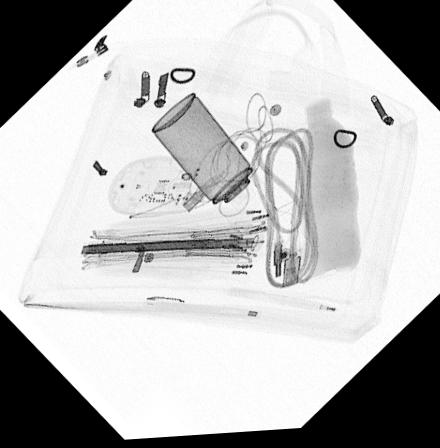Sprayer: (152, 94, 267, 223)
